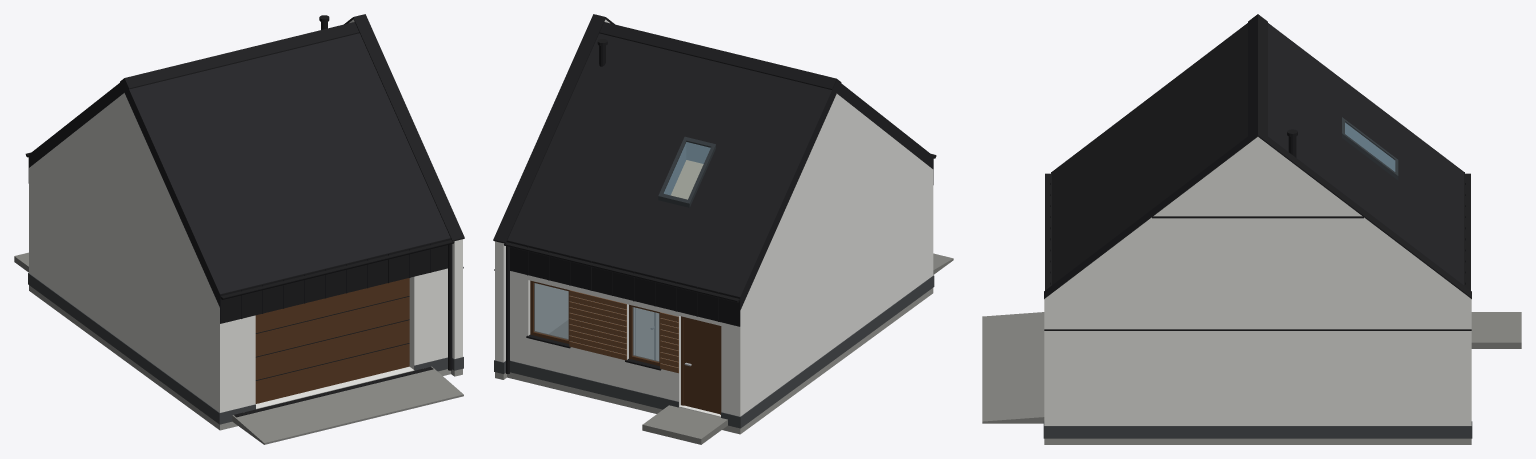
The model's file is garaz_braz.dae.
3 views of the same model, side by side, from view 1: azimuth 30°, elevation 25°; view 2: azimuth 150°, elevation 25°; view 3: azimuth 270°, elevation 25° (orthographic). The views are drawn at different scales.
Visible parts, largest first — view 1: Dach – połać frontowa, Ściana szczytowa lewa (od strony domu), BG <BG brama garażowa segmentowa 400x225>, Ściana frontowa, Podjazd przed bramą (spadek 8%), Pas blachy frontowy, Opierzenie ściany szczytowej, Cokół – tynk mozaikowy, Gąsior, Płyta fundamentowa, Dach – połać ogrodowa, Ściana szczytowa prawa (+5 smaller); view 2: Dach – połać ogrodowa, Ściana szczytowa lewa (od strony domu), Ściana ogrodowa, Pas blachy ogrodowy, Cokół – tynk mozaikowy, Deska elewacyjna – ogród, D1 <D1 drzwi zewnętrzne 90x210>, Opierzenie ściany szczytowej, Gąsior, Ściana szczytowa prawa, OP <OP okno dachowe 78x148>, Płyta fundamentowa (+10 smaller); view 3: Ściana szczytowa prawa, Dach – połać frontowa, Dach – połać ogrodowa, Podjazd przed bramą (spadek 8%), Cokół – tynk mozaikowy, Opierzenie ściany szczytowej, Płyta fundamentowa, Gąsior, Podest przy drzwiach D1, Płyta pod ścianą szczytową, OP <OP okno dachowe 78x148>, Pas blachy na szczycie – dolny (+3 smaller).
Boxes of the visible parts, x1=… form: Dach – połać frontowa: x1=124, y1=33, x2=450, y2=307; Ściana szczytowa lewa (od strony domu): x1=33, y1=93, x2=215, y2=408; BG <BG brama garażowa segmentowa 400x225>: x1=255, y1=278, x2=409, y2=403; Ściana frontowa: x1=215, y1=268, x2=447, y2=412; Podjazd przed bramą (spadek 8%): x1=232, y1=366, x2=463, y2=444; Pas blachy frontowy: x1=220, y1=238, x2=451, y2=323; Opierzenie ściany szczytowej: x1=344, y1=14, x2=464, y2=241; Cokół – tynk mozaikowy: x1=28, y1=273, x2=463, y2=424; Gąsior: x1=120, y1=22, x2=359, y2=89; Płyta fundamentowa: x1=29, y1=285, x2=450, y2=430; Dach – połać ogrodowa: x1=29, y1=79, x2=124, y2=167; Ściana szczytowa prawa: x1=349, y1=19, x2=462, y2=358; Dach – połać ogrodowa: x1=507, y1=33, x2=836, y2=309; Ściana szczytowa lewa (od strony domu): x1=745, y1=93, x2=928, y2=412; Ściana ogrodowa: x1=510, y1=271, x2=745, y2=417; Pas blachy ogrodowy: x1=507, y1=240, x2=740, y2=326; Cokół – tynk mozaikowy: x1=494, y1=275, x2=934, y2=428; Deska elewacyjna – ogród: x1=569, y1=290, x2=678, y2=373; D1 <D1 drzwi zewnętrzne 90x210>: x1=681, y1=316, x2=721, y2=414; Opierzenie ściany szczytowej: x1=493, y1=14, x2=614, y2=243; Gąsior: x1=599, y1=22, x2=841, y2=89; Ściana szczytowa prawa: x1=495, y1=19, x2=609, y2=362; OP <OP okno dachowe 78x148>: x1=658, y1=136, x2=715, y2=207; Płyta fundamentowa: x1=507, y1=288, x2=933, y2=434; Ściana szczytowa prawa: x1=1044, y1=137, x2=1471, y2=425; Dach – połać frontowa: x1=1052, y1=23, x2=1247, y2=284; Dach – połać ogrodowa: x1=1268, y1=23, x2=1463, y2=284; Podjazd przed bramą (spadek 8%): x1=982, y1=312, x2=1044, y2=423; Cokół – tynk mozaikowy: x1=1043, y1=421, x2=1472, y2=438; Opierzenie ściany szczytowej: x1=1044, y1=129, x2=1471, y2=298; Płyta fundamentowa: x1=1052, y1=438, x2=1463, y2=444; Gąsior: x1=1248, y1=14, x2=1267, y2=135; Podest przy drzwiach D1: x1=1471, y1=312, x2=1521, y2=348; Płyta pod ścianą szczytową: x1=1044, y1=438, x2=1471, y2=444; OP <OP okno dachowe 78x148>: x1=1342, y1=117, x2=1398, y2=180; Pas blachy na szczycie – dolny: x1=1044, y1=329, x2=1471, y2=330.
Size of what is drawn, in the model's own units: 606 by 1085 by 689.
